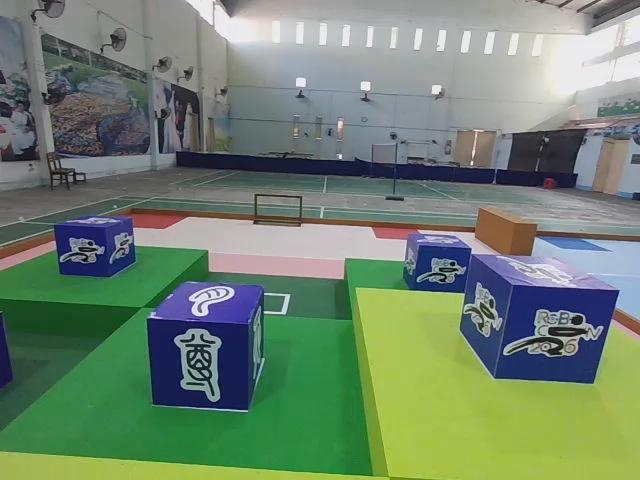R1 Blue: (462, 256, 620, 387), (53, 217, 136, 281), (402, 234, 472, 295)
R2 Fake Blue: (147, 281, 266, 414)
